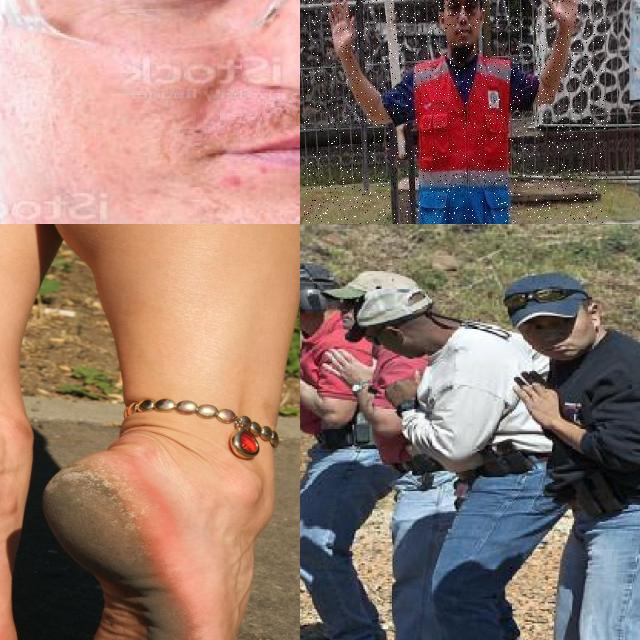Barefoots: (41, 450, 232, 640)
face_nomask: (115, 0, 300, 222), (528, 318, 582, 356)
glasses: (345, 271, 554, 640), (510, 265, 640, 640), (300, 261, 387, 640), (499, 284, 594, 301)
hand_noglove: (506, 366, 564, 428), (322, 344, 382, 390)
head_nohelmet: (508, 273, 592, 329), (346, 281, 428, 337), (300, 258, 338, 304)
person: (303, 0, 608, 224)
vest: (411, 53, 519, 224)
